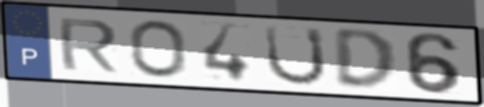4: (201, 21, 256, 84)
6: (403, 31, 465, 97)
D: (331, 28, 400, 93)
O: (126, 18, 190, 80)
R: (55, 17, 121, 74)
U: (263, 23, 330, 87)
